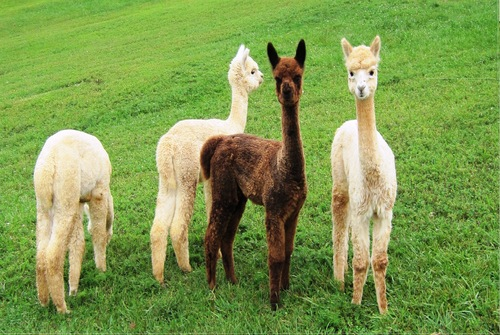alpaca: (199, 38, 308, 314), (150, 41, 262, 283), (329, 36, 398, 313), (32, 127, 114, 313)
